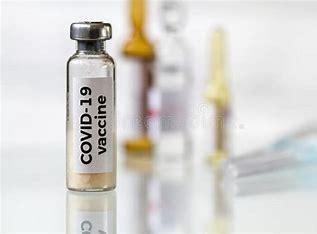Syringe: (58, 6, 130, 196)
